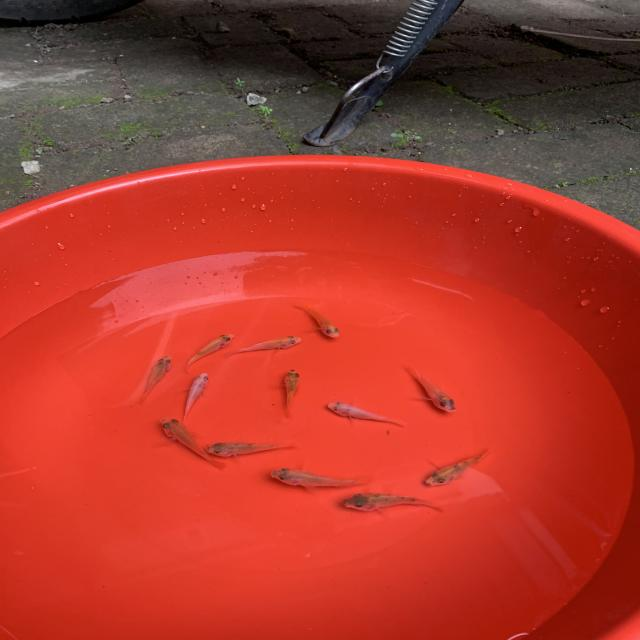nila: (414, 442, 499, 492), (155, 412, 221, 472), (340, 483, 450, 519), (265, 464, 388, 494), (219, 332, 315, 361), (405, 362, 459, 413), (283, 297, 345, 341), (318, 398, 402, 429), (131, 350, 175, 404), (181, 327, 233, 372), (196, 437, 302, 459), (175, 369, 216, 424), (274, 367, 314, 421)
